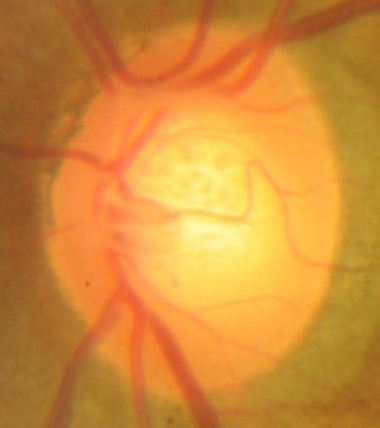Glaucoma section-1: (154, 159, 252, 285)
Glaucoma section-2: (110, 131, 287, 306)
